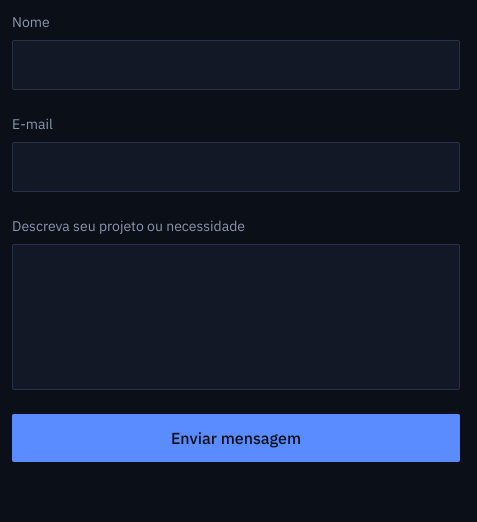
Test: ContactForm › mostra erro quando a API falha
Type "Ana" into the field labelled "Nome" at (236, 65), box x1=12 y1=40 x2=460 y2=90
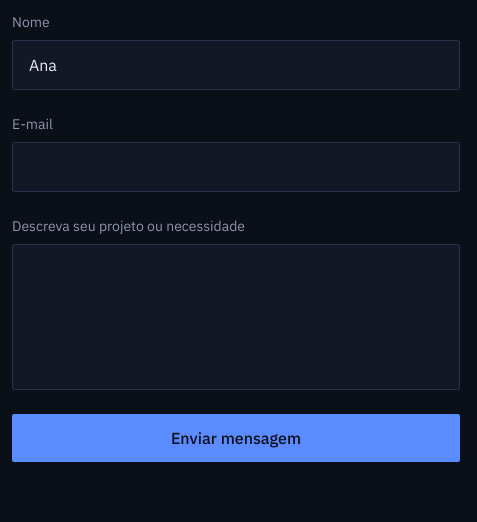
Type "ana@exemplo.com" into the field labelled "E-mail" at (236, 167), box x1=12 y1=142 x2=460 y2=192
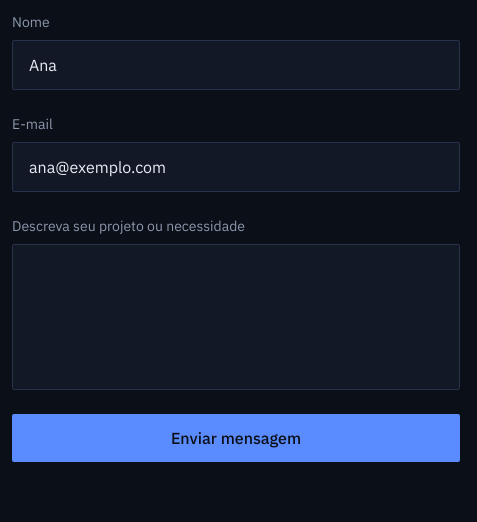
Type "Olá <b>WSS</b>" into the text box labelled "Descreva seu projeto ou necessidade" at (236, 317), box x1=12 y1=244 x2=460 y2=390
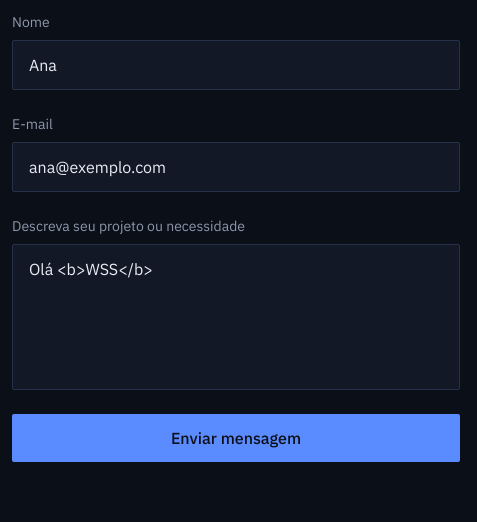
Click the button "Enviar mensagem" at (236, 438), box x1=12 y1=414 x2=460 y2=462
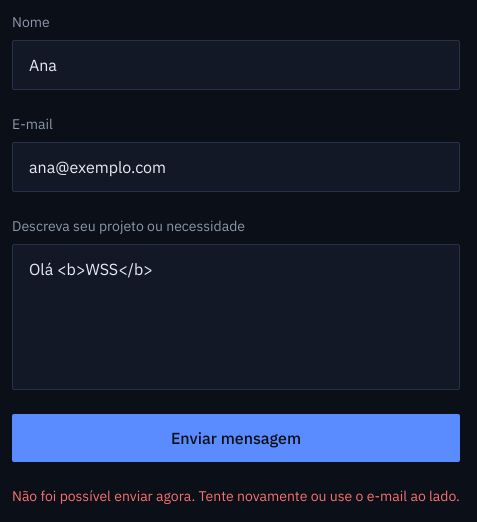
expect the text "Não foi possível enviar" is shown: met, box x1=12 y1=487 x2=460 y2=505
